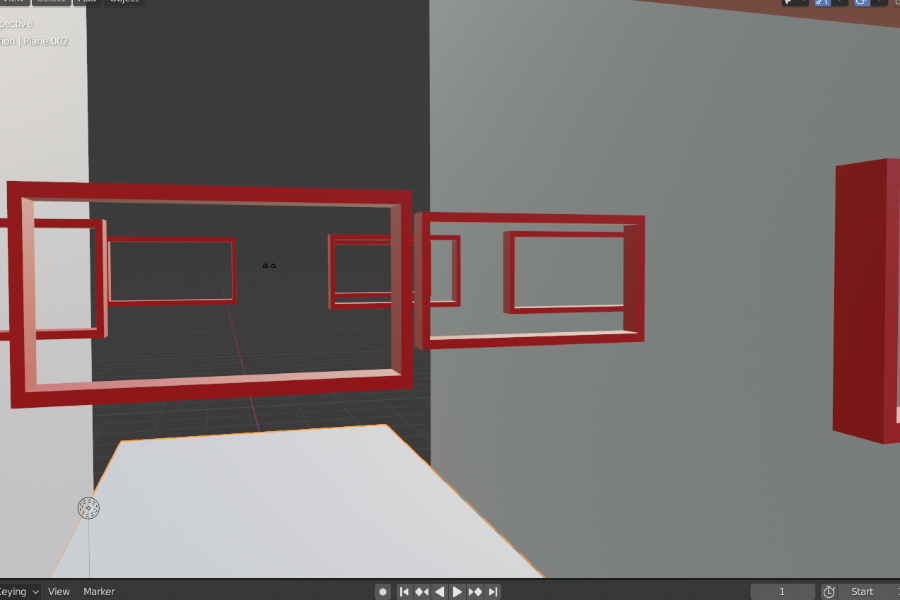GATE: (3, 172, 418, 403), (421, 214, 650, 346), (0, 216, 106, 342), (503, 232, 655, 318), (324, 232, 465, 308), (94, 239, 236, 306)
